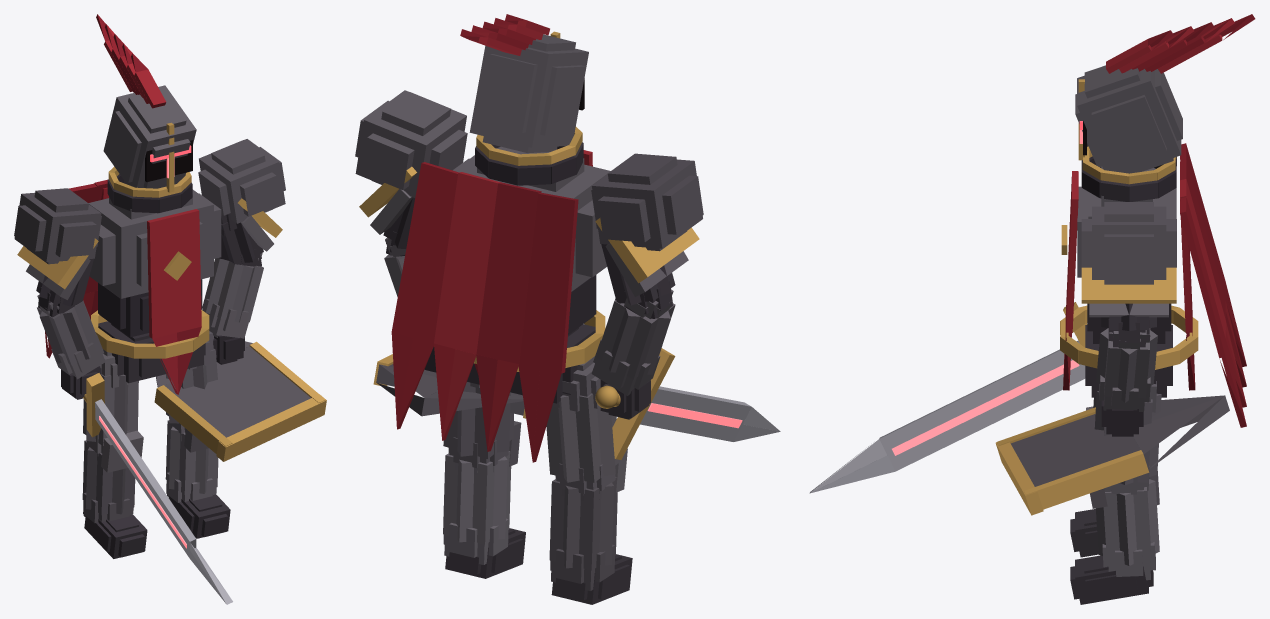
The picture shows the model from 3 angles, left to right: view 1: azimuth 30°, elevation 25°; view 2: azimuth 150°, elevation 25°; view 3: azimuth 270°, elevation 25°; orthographic projection. The views are drawn at different scales.
Parts seen in each view (by area): view 1: CathedralKnight; view 2: CathedralKnight; view 3: CathedralKnight.
Part boxes in pixels (left/top/right/bottom): CathedralKnight: left=14, top=14, right=326, bottom=604; CathedralKnight: left=355, top=14, right=780, bottom=604; CathedralKnight: left=809, top=14, right=1255, bottom=604.
Bounding box in the file's own units: 0.9044 × 1.6 × 1.16.
